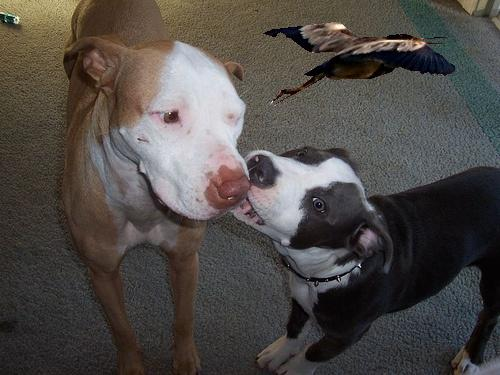tampered: (264, 23, 455, 106)
